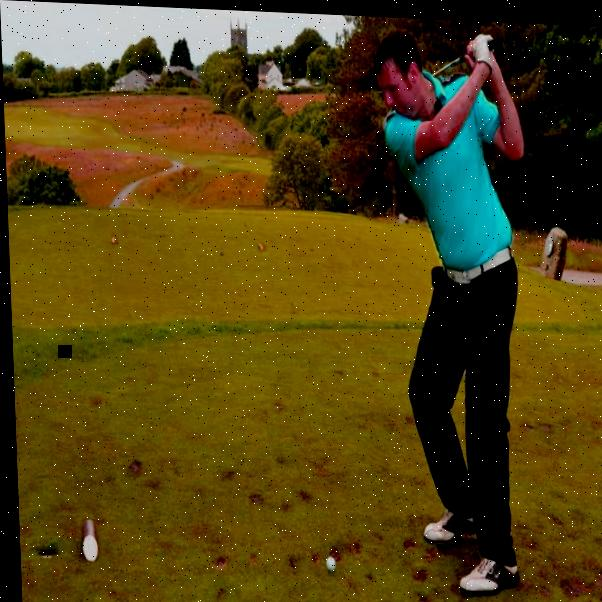GolfBall: (321, 549, 335, 573)
